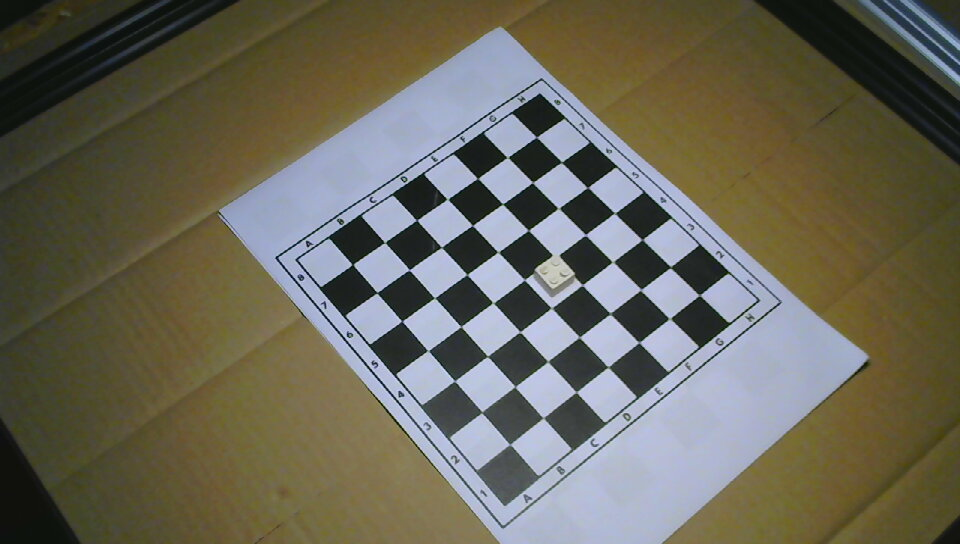wp: (533, 254, 575, 297)
